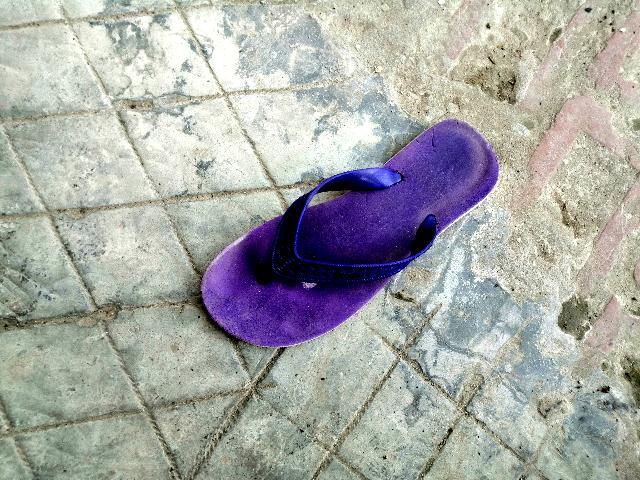sandal: (176, 67, 515, 393)
